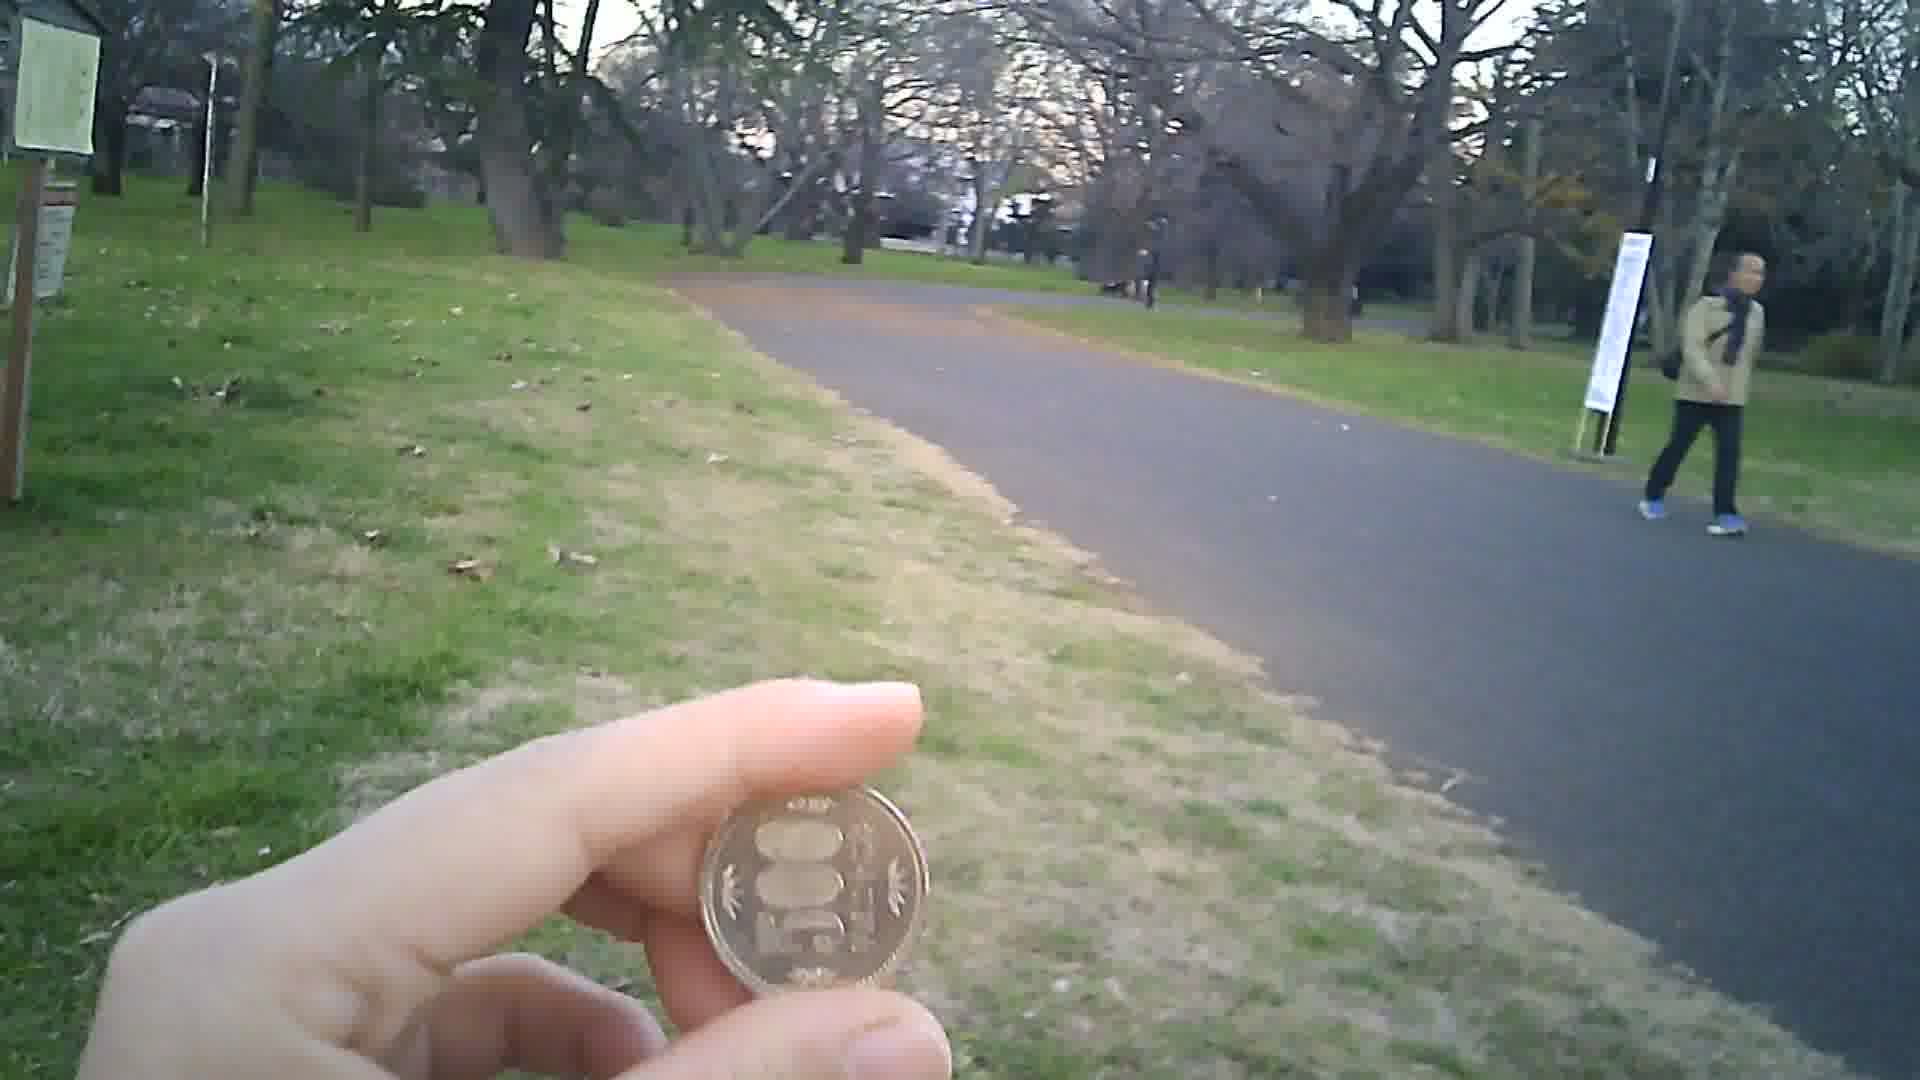500 Yen: (703, 771, 928, 996)
